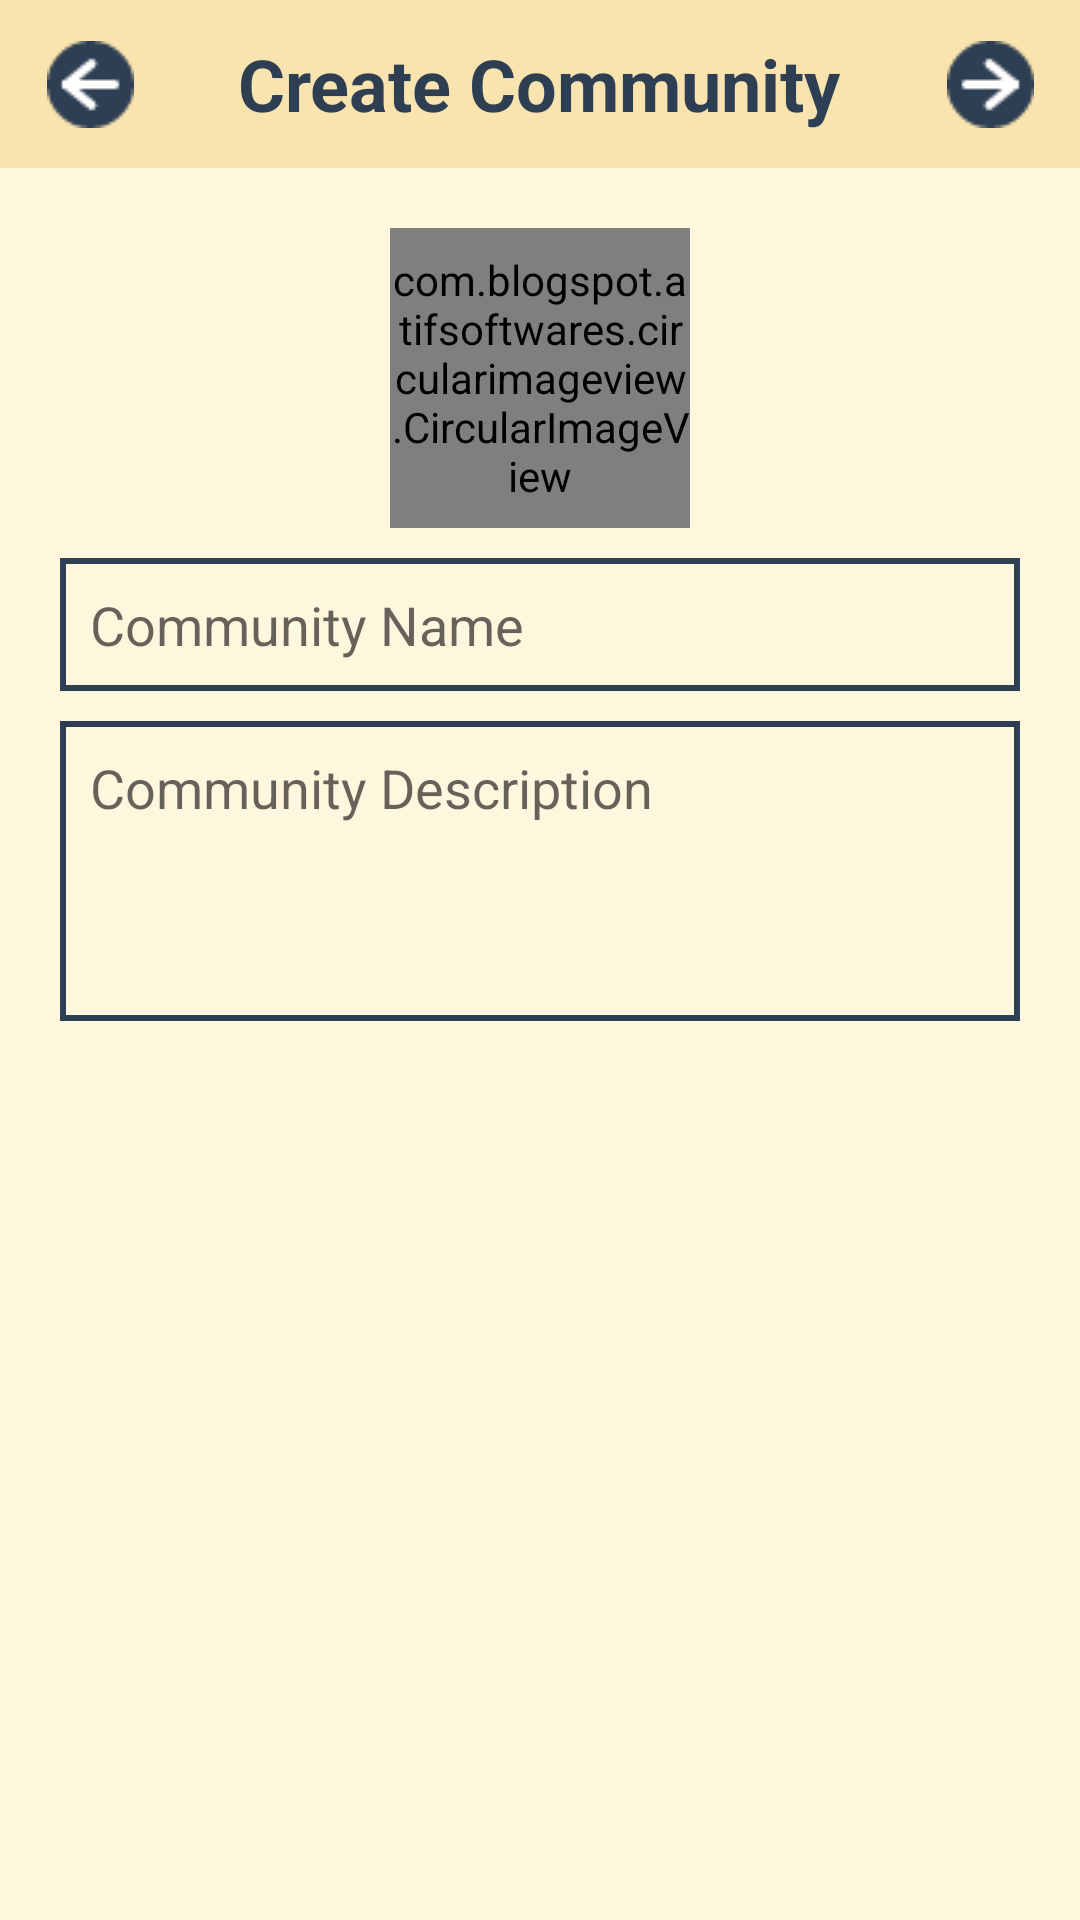

Where icons sit on this 1080×1920 app screen, as (x1, y1, x2, y2):
back: (47, 41, 134, 128)
